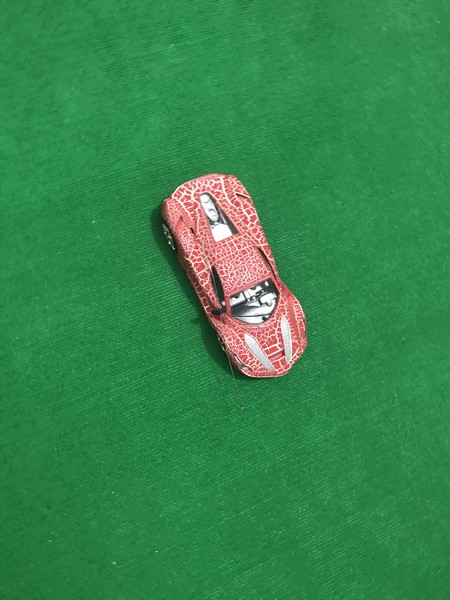RC: (155, 171, 312, 384)
